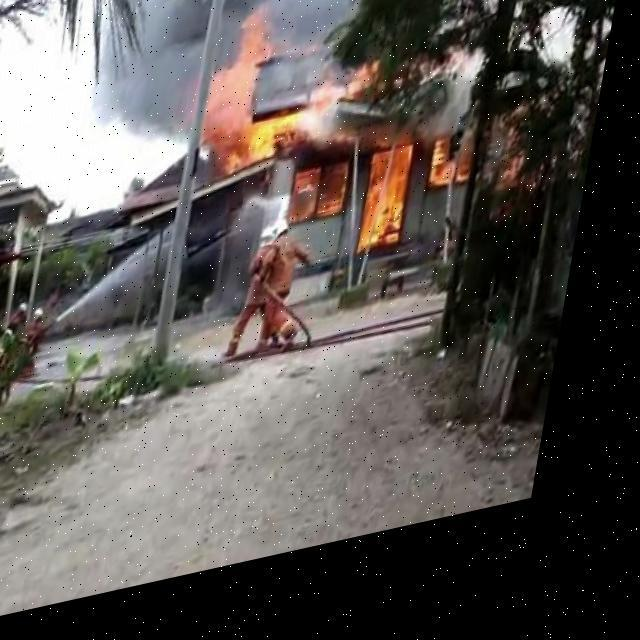Fire: (184, 0, 563, 306)
